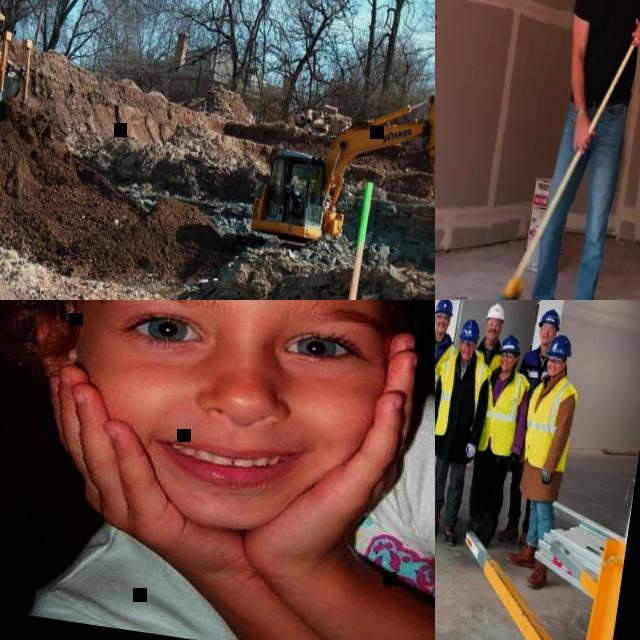Hardhat: (546, 333, 574, 359), (459, 317, 482, 342), (500, 333, 524, 356), (538, 307, 562, 329), (485, 300, 507, 323), (435, 300, 454, 316)
NO-Mask: (40, 333, 388, 549), (458, 348, 474, 361), (539, 332, 553, 345), (485, 327, 500, 339), (435, 320, 448, 333), (545, 365, 560, 376), (500, 360, 512, 370)
NO-Safety Vest: (33, 337, 435, 640), (571, 0, 640, 113)
Person: (0, 300, 435, 640), (503, 0, 640, 300), (502, 331, 586, 590), (495, 304, 575, 546), (464, 332, 538, 549), (435, 314, 499, 547), (449, 300, 509, 527), (435, 300, 464, 520)
Safety Vest: (520, 373, 580, 471), (478, 366, 532, 458), (435, 333, 459, 407), (520, 348, 552, 394), (481, 351, 500, 370)
machinery: (218, 64, 435, 281), (0, 0, 41, 119)
